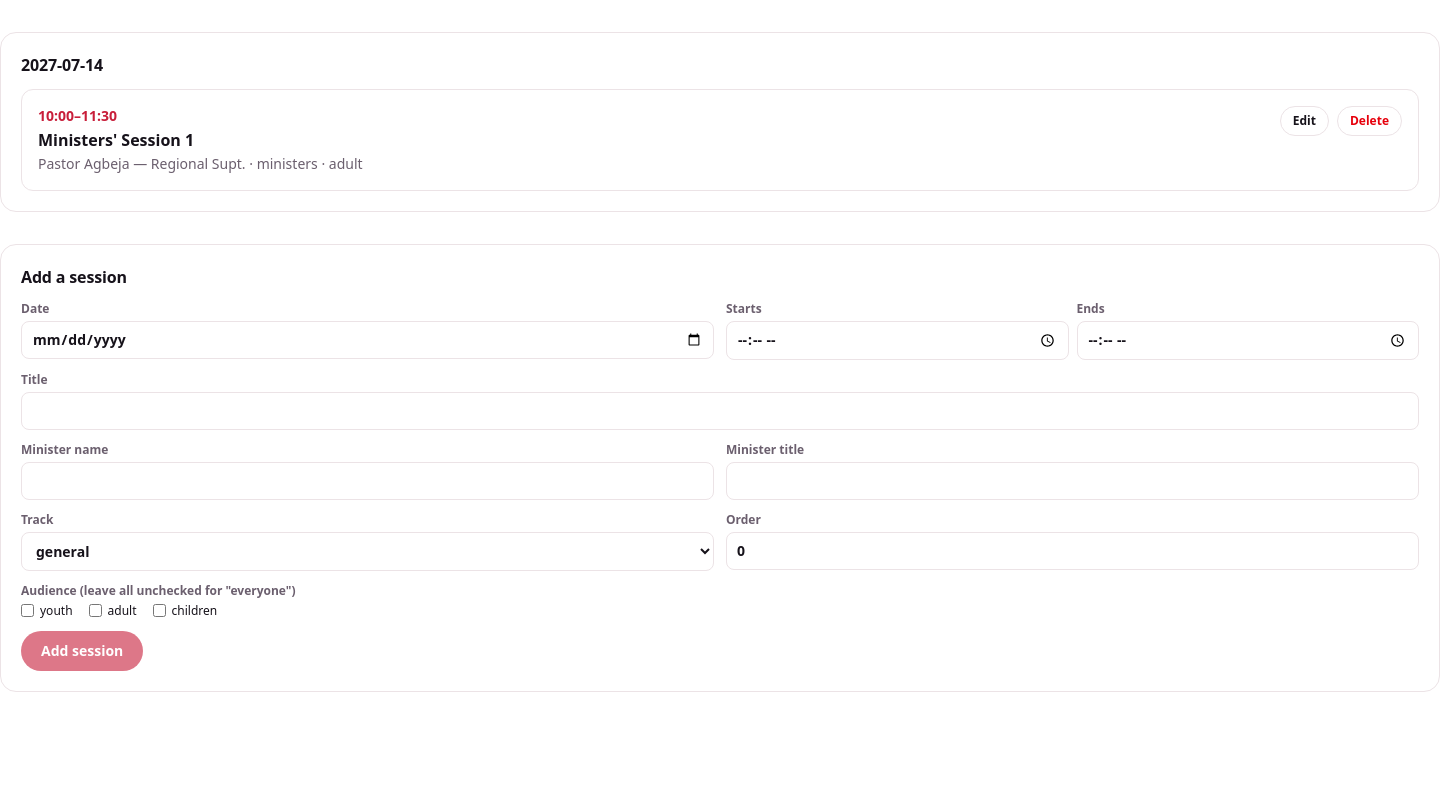
Test case: ScheduleAdminView › cancelling an edit restores the read-only row without saving
Click the button "Edit" at (1304, 121), box left=1280, top=106, right=1329, bottom=136
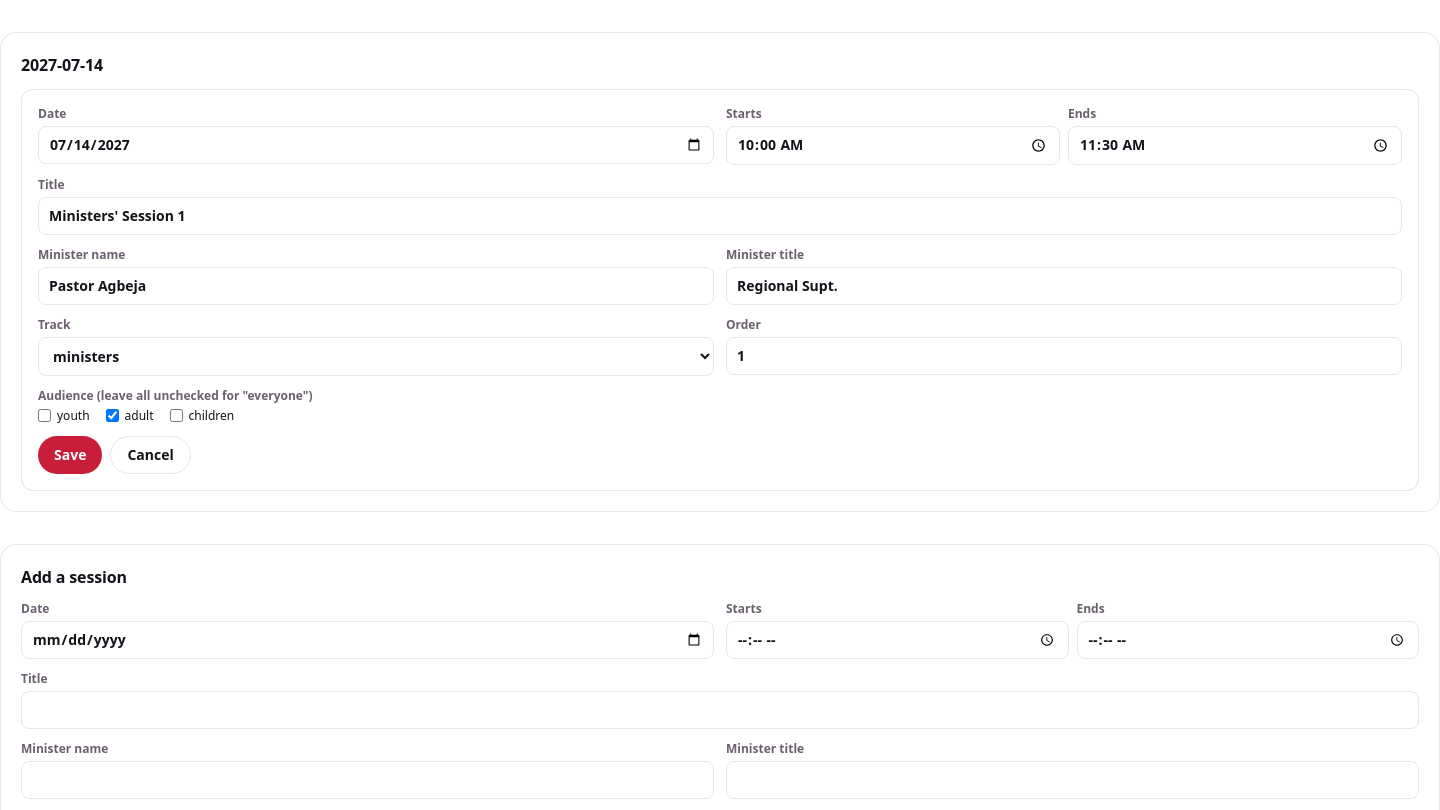
Click the button "Cancel" at (151, 455), box left=110, top=436, right=191, bottom=474
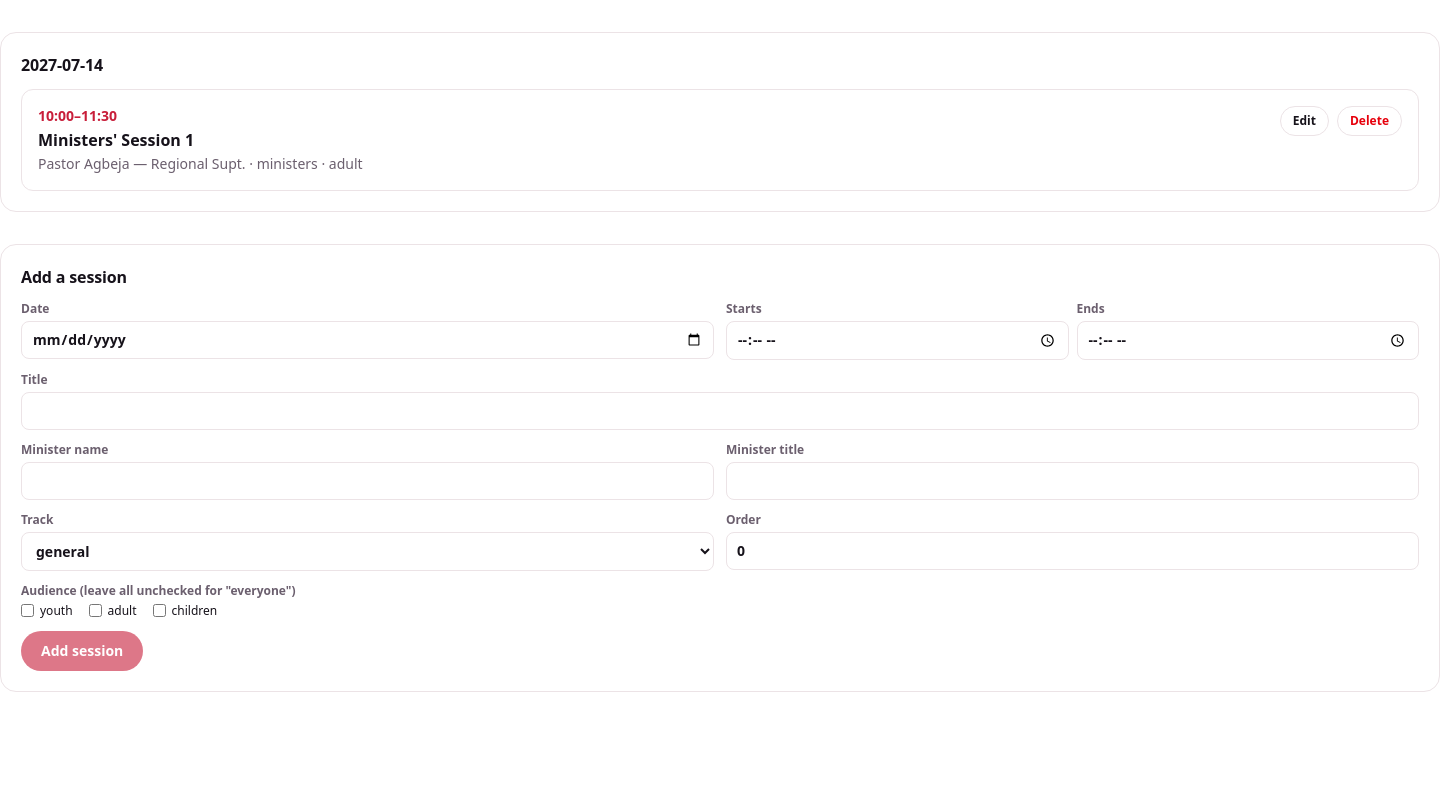
Now the text "Ministers' Session 1" is shown, box left=38, top=129, right=194, bottom=151
